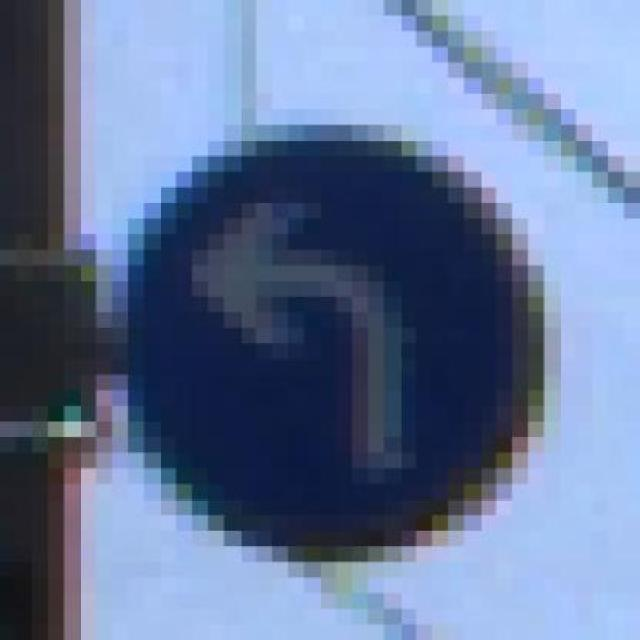Turn left ahead: (128, 93, 560, 593)
